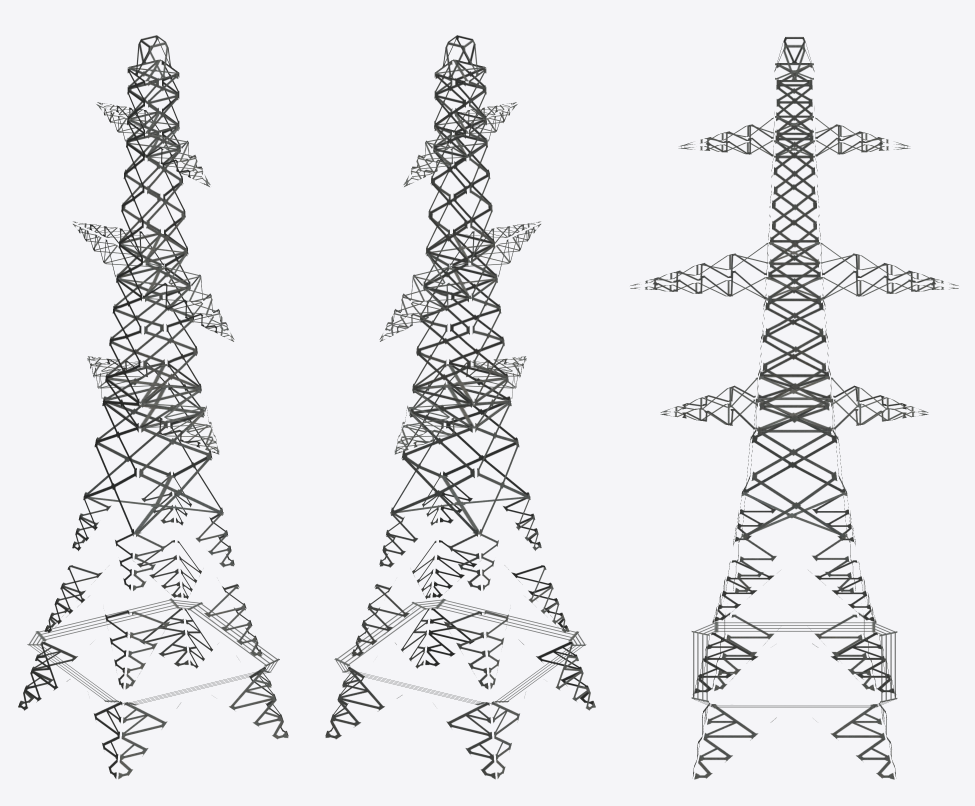
Rendered from object_85_lev2.glb.
The picture shows the model from 3 angles, left to right: view 1: azimuth 30°, elevation 25°; view 2: azimuth 150°, elevation 25°; view 3: azimuth 270°, elevation 25°; orthographic projection. The views are drawn at different scales.
Parts seen in each view (by area): view 1: object_85_lev2; view 2: object_85_lev2; view 3: object_85_lev2.
Boxes of the visible parts, bbox=[...] form: object_85_lev2: bbox=[18, 35, 288, 779]; object_85_lev2: bbox=[325, 35, 595, 779]; object_85_lev2: bbox=[630, 37, 958, 779].
Bounding box in the file's own units: 1.11 × 4.31 × 1.77.
Materials: 1 (1 with a texture image).
